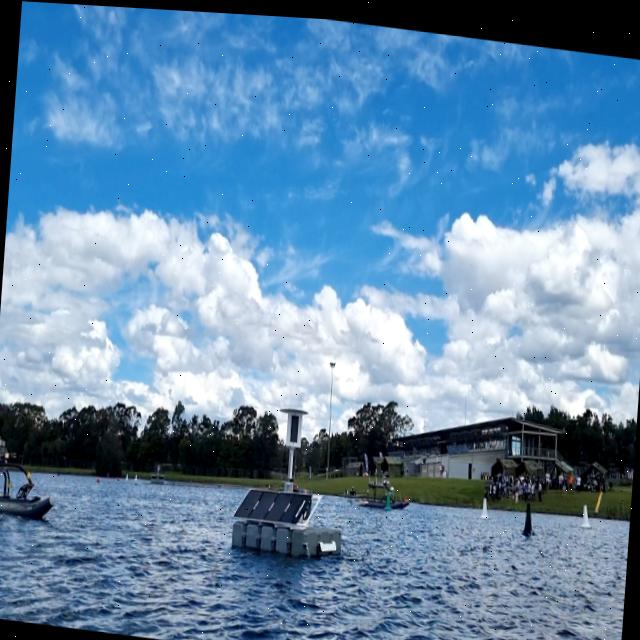led: (287, 409, 301, 443)
